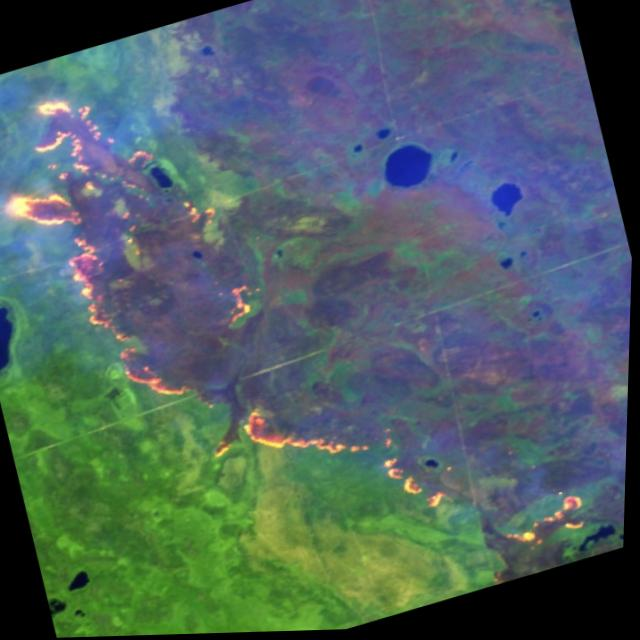fire: (0, 36, 294, 448), (194, 357, 461, 579), (471, 479, 610, 572)
